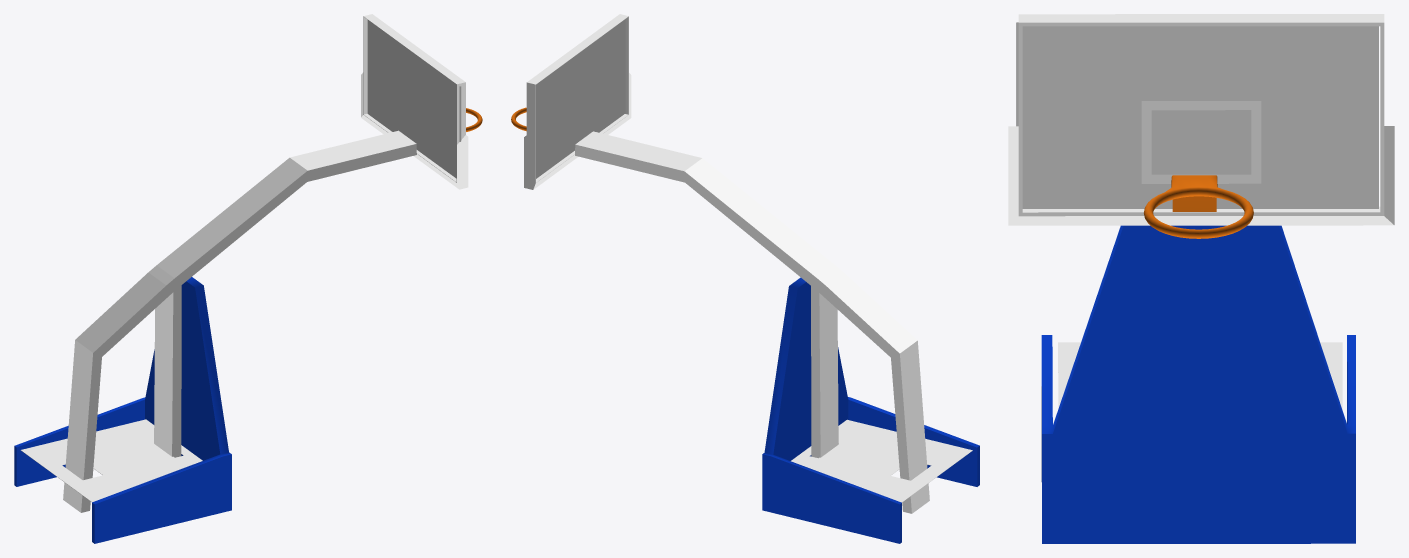
File: canestro.dae
The picture shows the model from 3 angles, left to right: view 1: azimuth 30°, elevation 25°; view 2: azimuth 150°, elevation 25°; view 3: azimuth 270°, elevation 25°; orthographic projection. The views are drawn at different scales.
Visible parts, largest first — view 1: Vetro.1; view 2: Vetro.1; view 3: Vetro.1.
Part boxes in pixels (left/top/right/bottom): Vetro.1: left=14, top=14, right=482, bottom=543; Vetro.1: left=511, top=14, right=979, bottom=543; Vetro.1: left=1008, top=14, right=1394, bottom=543.
Size of the model in its own units: 46.79 by 39.84 by 18.79.
